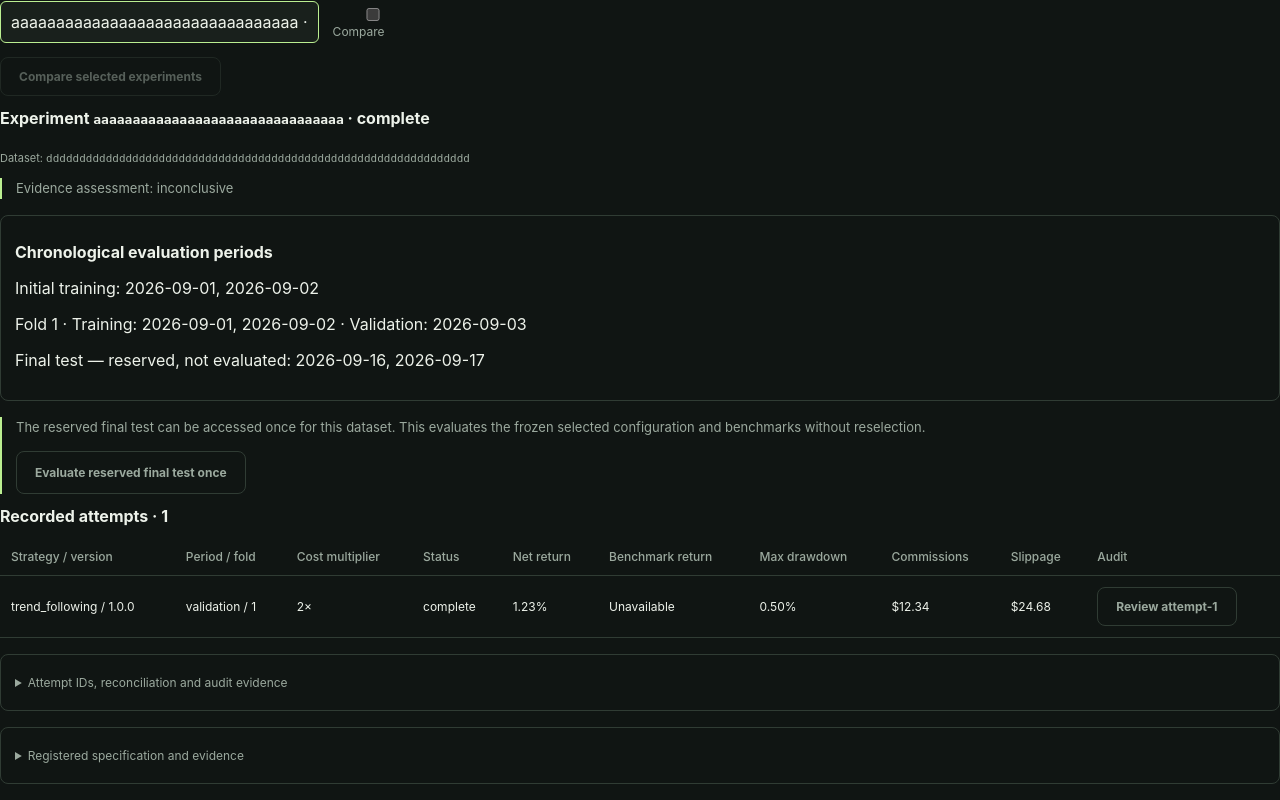
Scenario: reviews bounded attempt fills and the target weights enforced by host risk controls
This screenshot has width=1280, height=800.
(page scrolled)
Click the button "Review attempt-1": (1167, 607) [1097,587,1236,626]
(page scrolled)
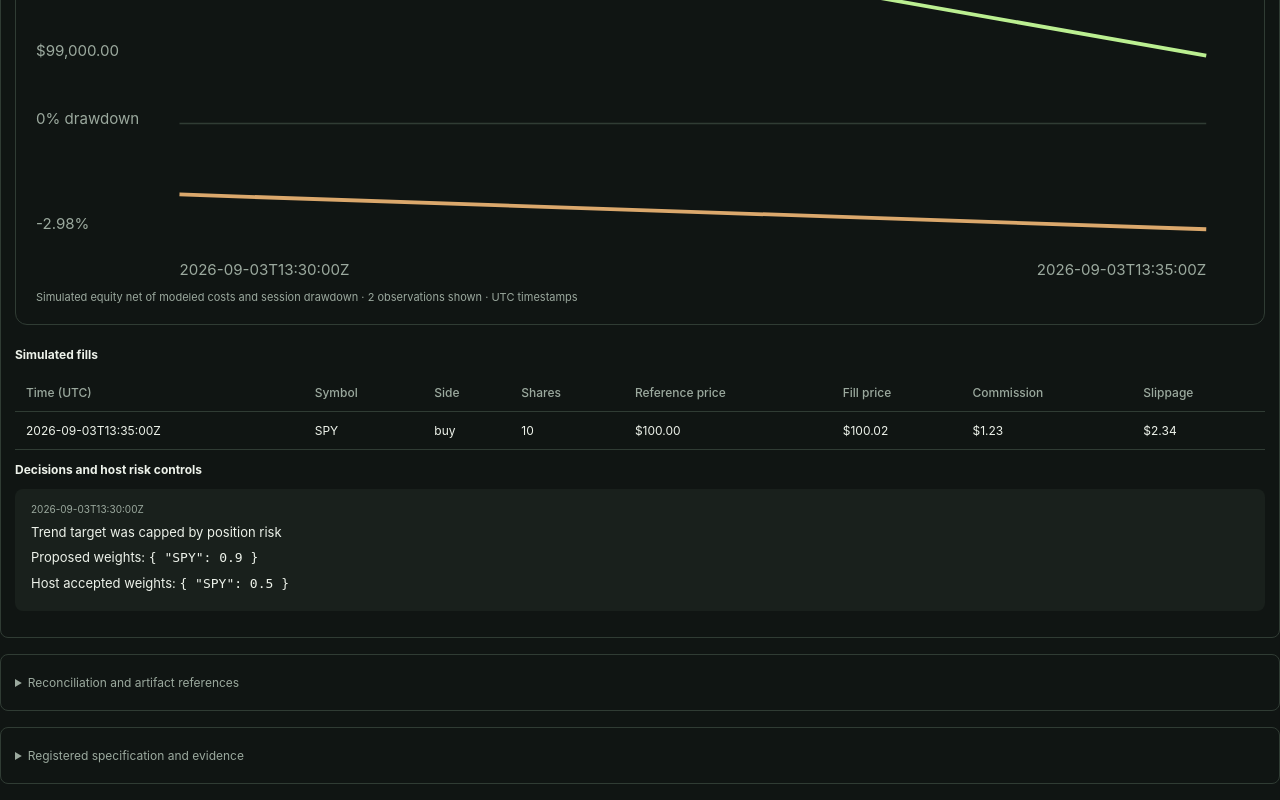
expect the text "session drawdown · 2 observations shown" is shown: met, box [36,290,578,304]
expect the text "Proposed weights: { \"SPY\": 0.9 }" shows "\"SPY\": 0.9": met, box [149,550,258,565]
expect the text "Host accepted weights: { \"SPY\": 0.5 }" shows "\"SPY\": 0.5": met, box [179,576,289,591]
